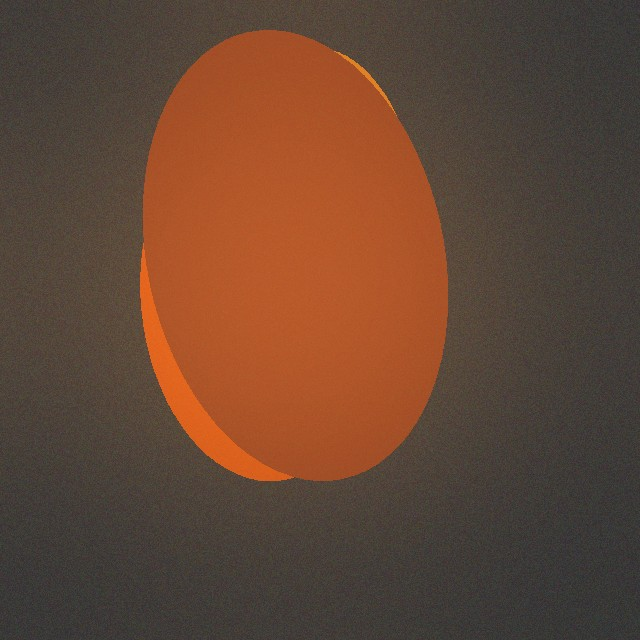fire: (141, 124, 433, 434)
